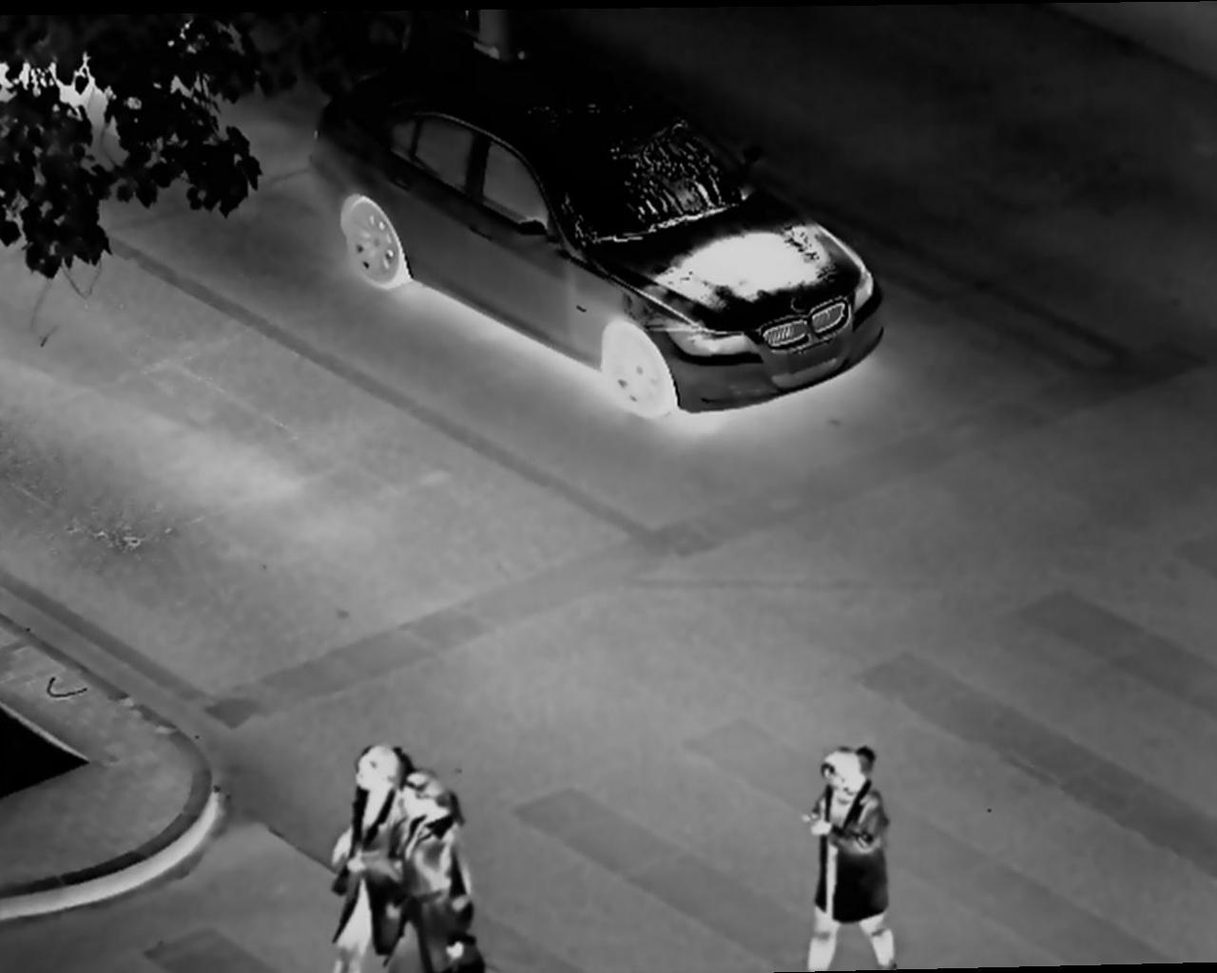person: (801, 735, 900, 973), (335, 745, 415, 967), (401, 777, 489, 970)
